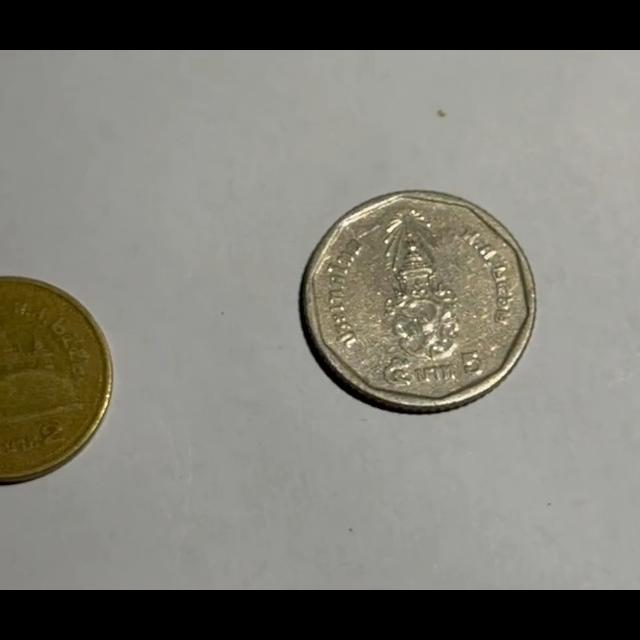2-baht: (0, 276, 110, 483)
5-baht: (300, 190, 536, 412)
